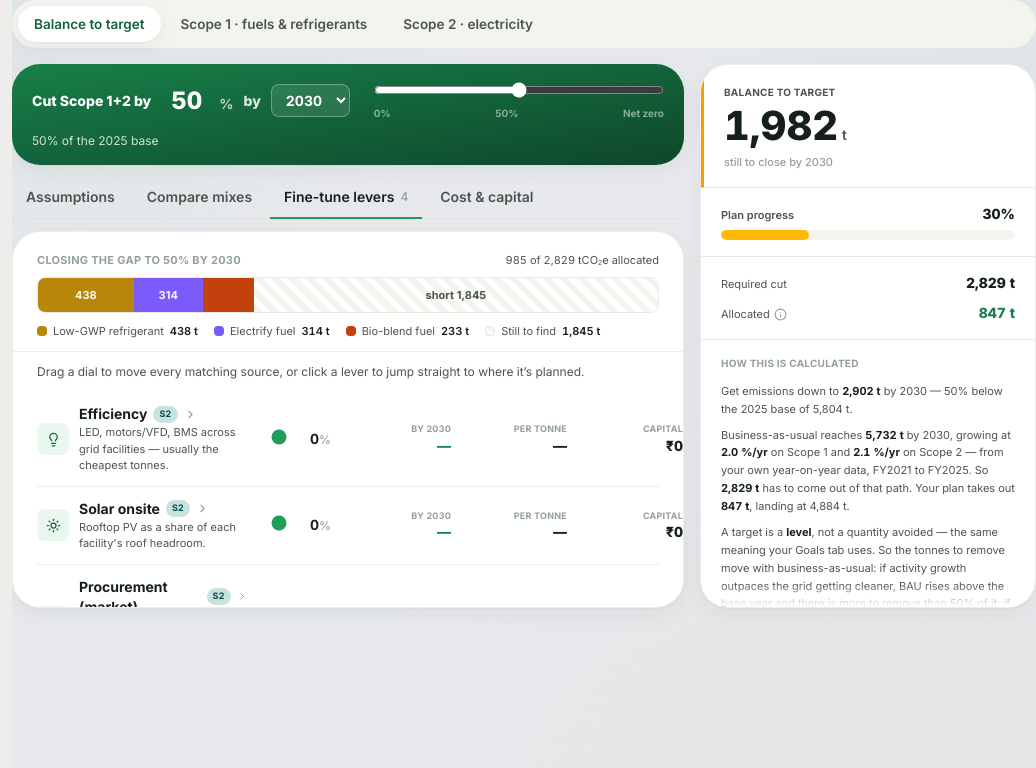
BuilderHub — Balance to target lands first › target year is adjustable and relabels the lever impact column
Select "2040" in the dropdown named "Target year" at (310, 101), box [271,84,350,117]
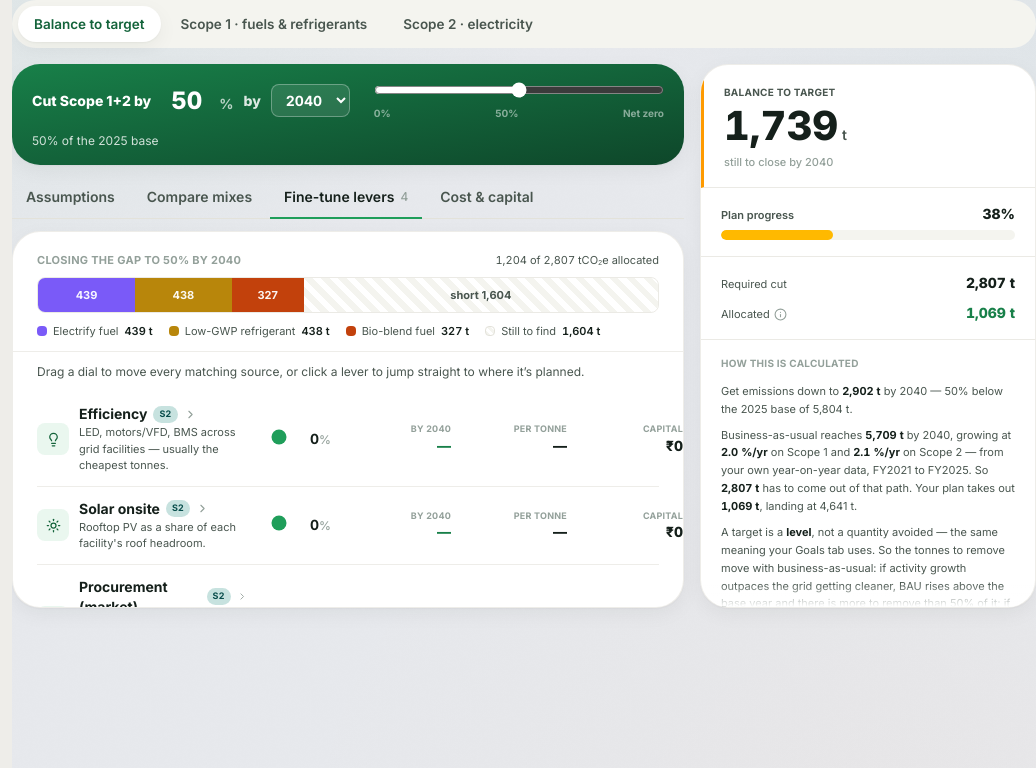
Expected: the 1st text "By 2040" is shown, [411,423,451,434]
